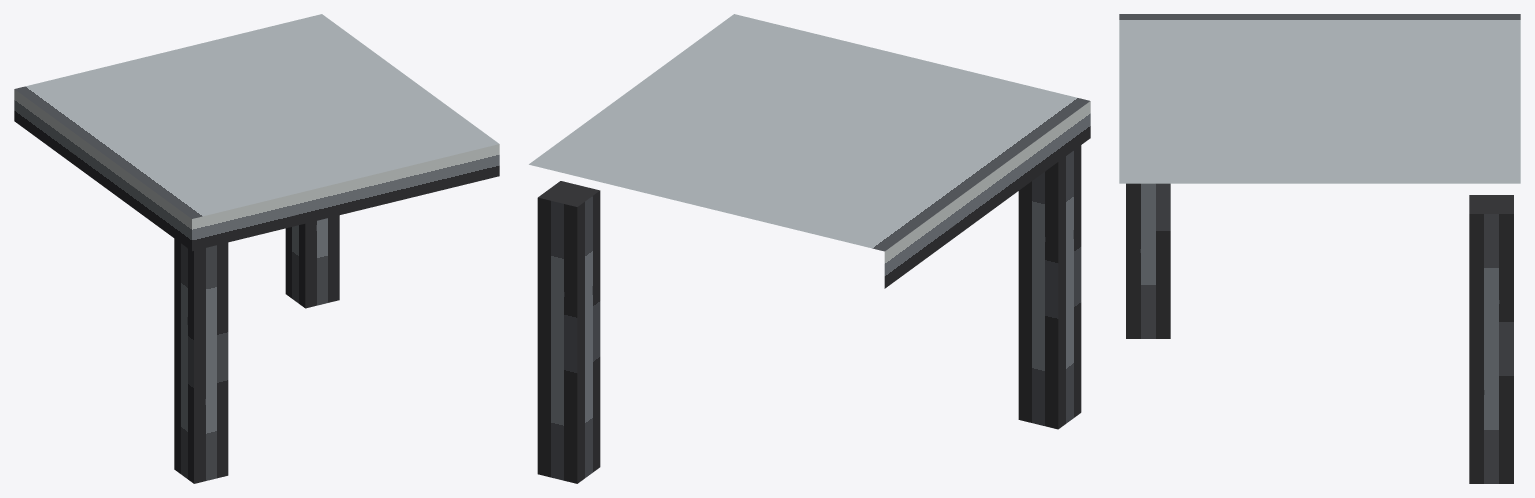
File: table_corner_2legs.glb
The picture shows the model from 3 angles, left to right: view 1: azimuth 30°, elevation 25°; view 2: azimuth 150°, elevation 25°; view 3: azimuth 270°, elevation 25°; orthographic projection. The views are drawn at different scales.
Visible parts, largest first — view 1: table_corner_2legs; view 2: table_corner_2legs; view 3: table_corner_2legs.
Boxes of the visible parts, <box> form: table_corner_2legs: <box>14,14,499,483</box>; table_corner_2legs: <box>529,14,1090,483</box>; table_corner_2legs: <box>1119,14,1520,483</box>.
Bounding box in the file's own units: 0.9 × 0.75 × 0.9.
1 material, 1 textured.
